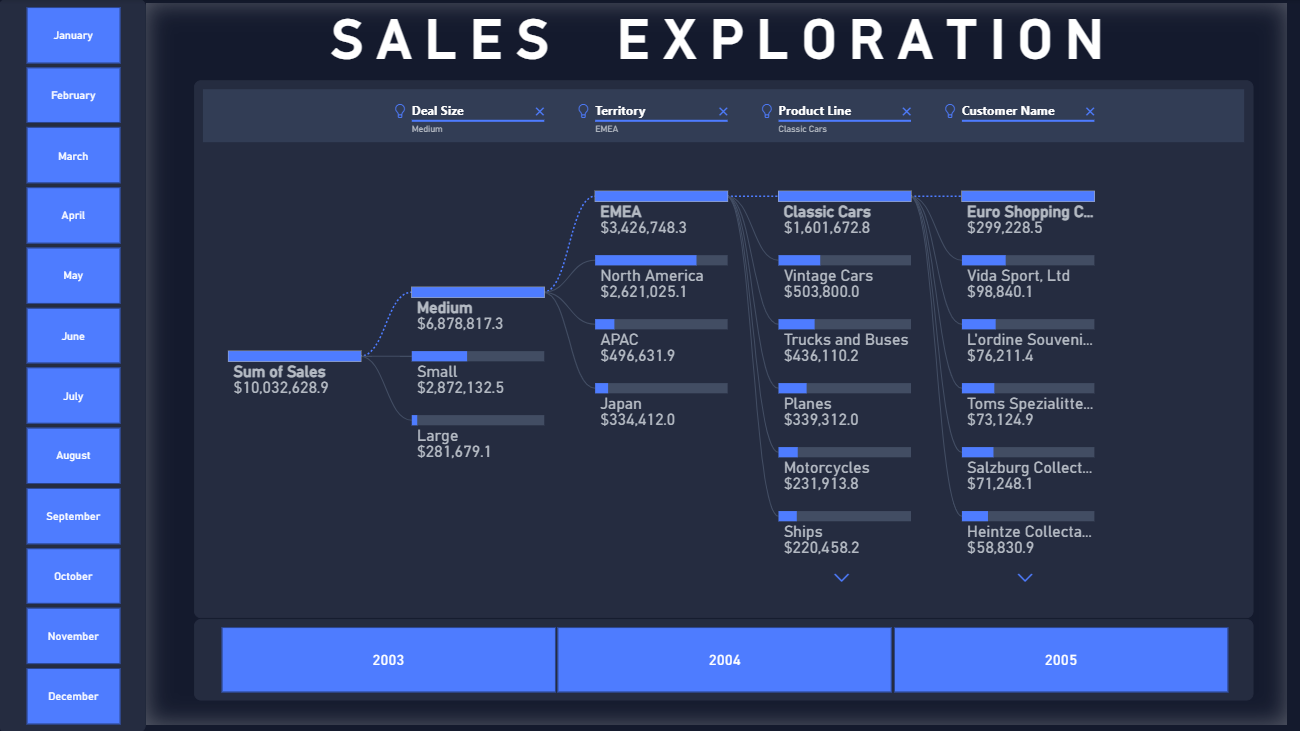

The page's visual inventory and layout, read from the dashboard file:
{"tool":"powerbi","page":{"name":"Sales Exploration","canvas":[1280,720],"ordinal":3},"visuals":[{"type":"textbox","box":[144.3,4.3,1120,708.6],"z":0},{"type":"decompositionTreeVisual","fields":{"ExplainBy":["Products.Deal Size","Customers.Territory","Products.Product Line","Customers.Customer Name"],"Analyze":["Sum(Sales.Sales)"]},"box":[192,80,1040,528],"z":1000},{"type":"slicer","title":"Year ID","fields":{"Values":["Sales.Order Date.Variation.Date Hierarchy.Year"]},"box":[192,608,1040,80],"z":2000},{"type":"slicer","title":"Year ID","fields":{"Values":["Sales.Order Date.Variation.Date Hierarchy.Month"]},"box":[0,0,144,720],"z":3000}]}

Visuals, with their boxes in screenshot pixels (x1, y1, x2, y2), scaled from the page's 1280x720 canvas onto the 1300x731 screenshot:
textbox: l=147, t=4, r=1284, b=724
decompositionTreeVisual - Products.Deal Size x Customers.Territory: l=195, t=81, r=1251, b=617
"Year ID" slicer: l=195, t=617, r=1251, b=699
"Year ID" slicer: l=0, t=0, r=146, b=730
